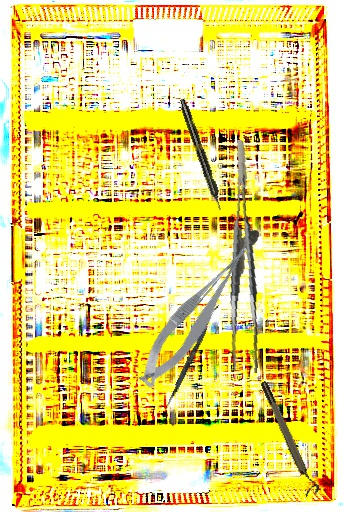Fixation Ring: (258, 377, 322, 499)
Handpiece: (177, 97, 225, 212)
Micro Scissor: (125, 241, 267, 392)
Spatula Surgical: (164, 302, 219, 412)
Tissue Forceps: (209, 139, 285, 374)
